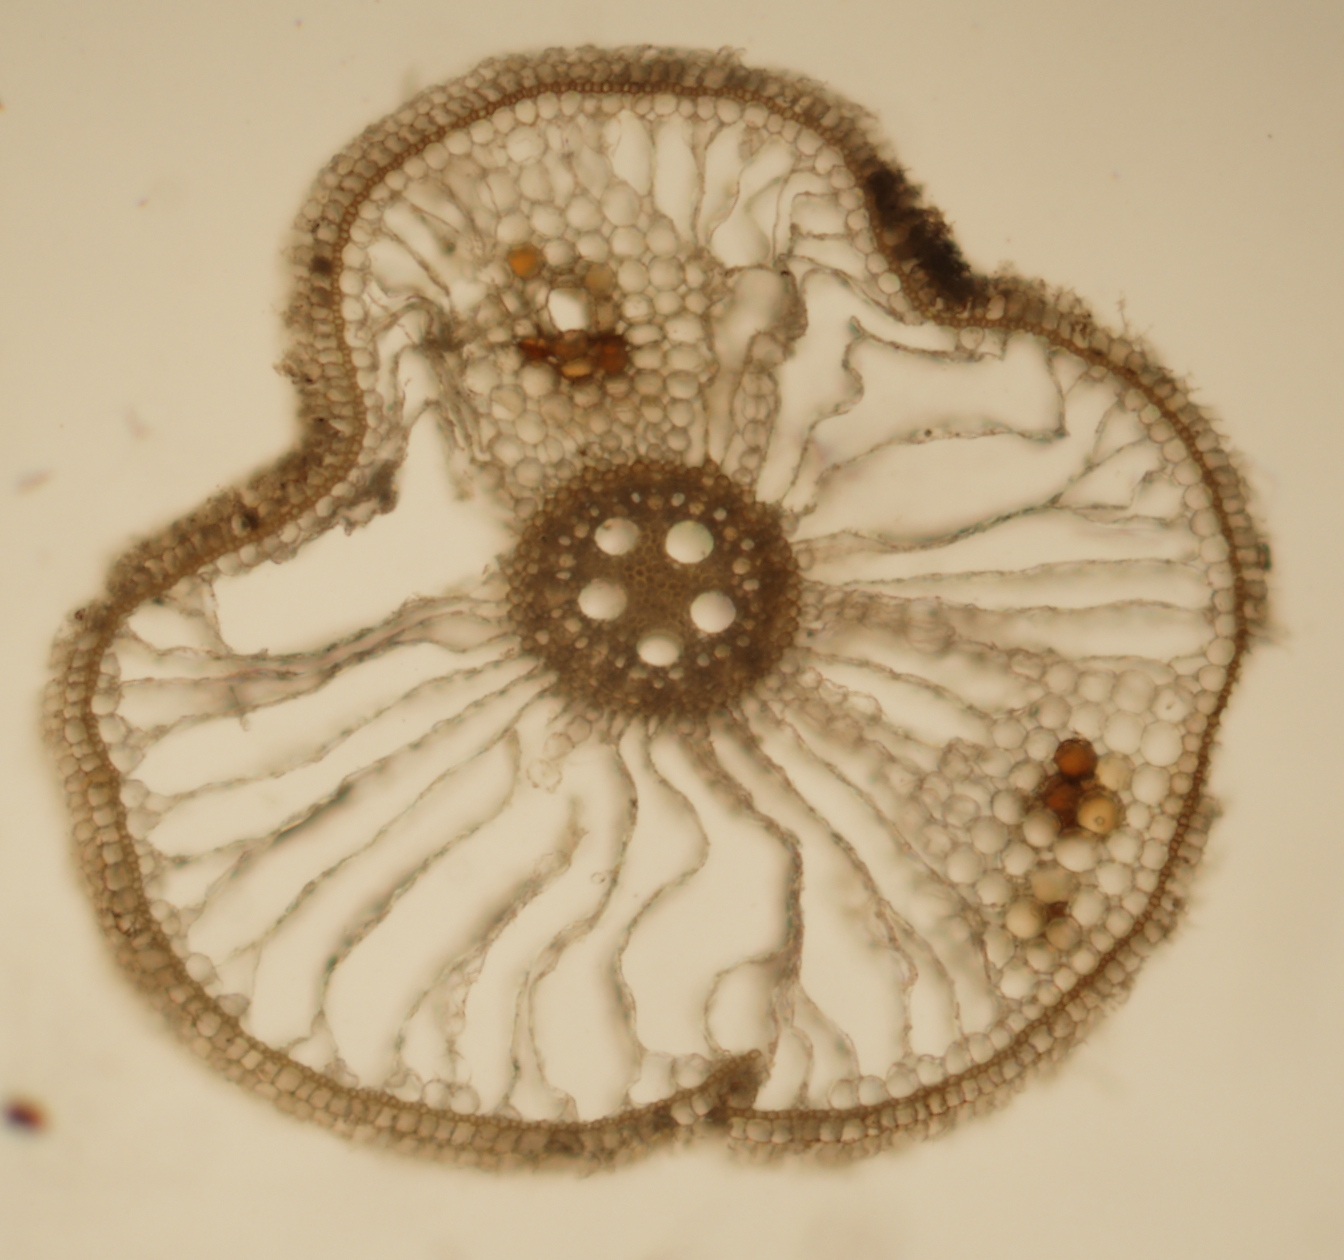lm: (577, 577, 629, 621), (665, 520, 714, 564), (690, 591, 737, 634), (593, 517, 642, 557), (636, 629, 684, 666)
